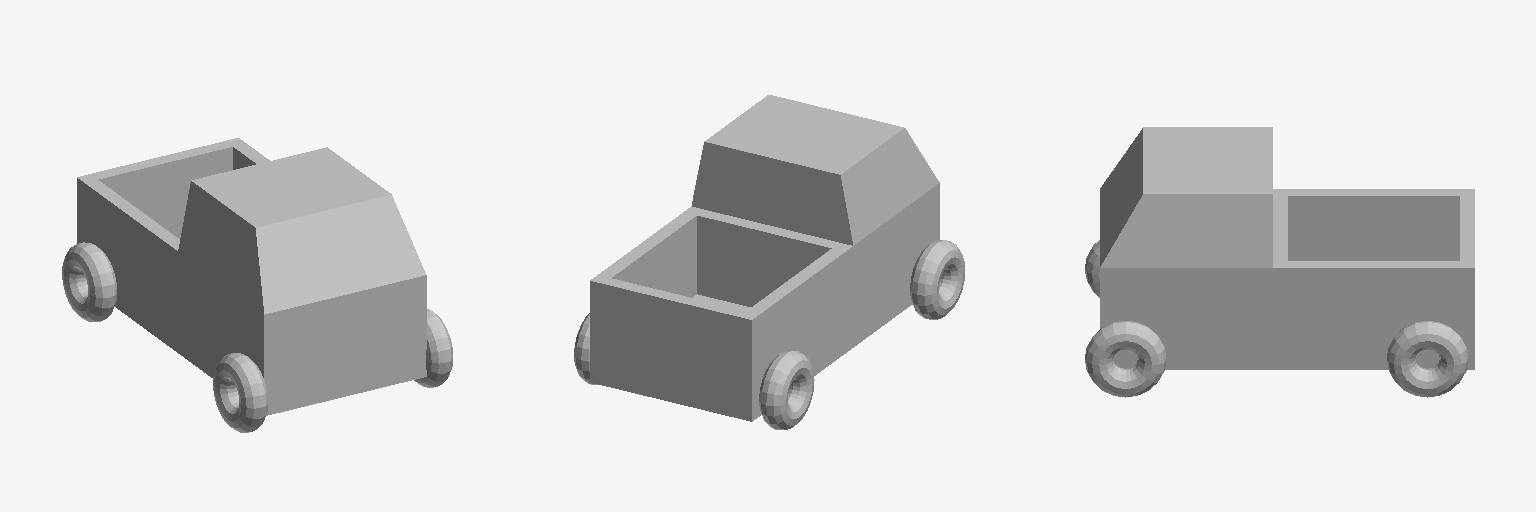
The model's file is Truck.obj.
3 renders of one model, left to right at view 1: azimuth 30°, elevation 25°; view 2: azimuth 150°, elevation 25°; view 3: azimuth 270°, elevation 25°, orthographic.
Parts seen in each view (by area): view 1: Trunk; view 2: Trunk; view 3: Trunk.
Part boxes in pixels (bbox=[...]): Trunk: bbox=[62, 138, 452, 432]; Trunk: bbox=[574, 95, 964, 429]; Trunk: bbox=[1085, 127, 1474, 397].
Bounding box in the file's own units: 2.01 × 1.74 × 3.24.